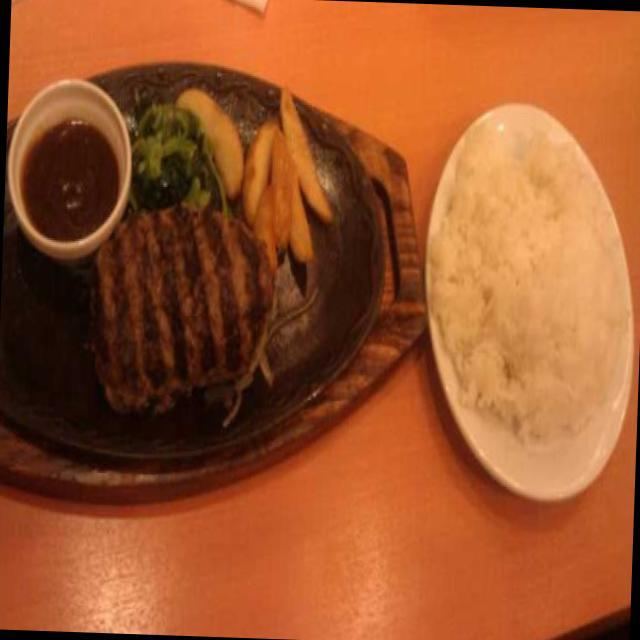Rice: (428, 114, 614, 434)
